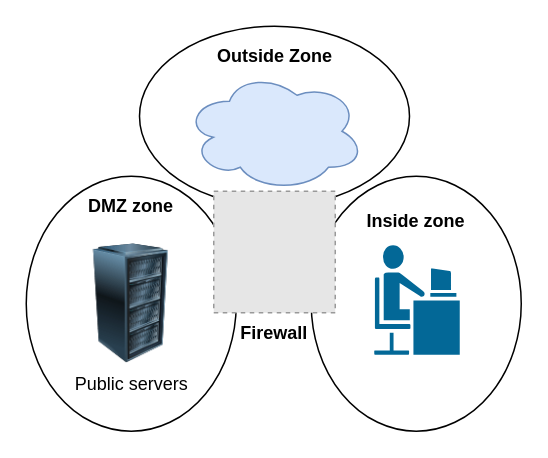
This 548x458 diagram has some shape labels left out. Grey dashed boxes stand in for pictures. Here are the shapes that lost their labels. From the top down, the centre of each, then its label:
the point at 273,130: Internet
the point at 416,299: Internal Network
